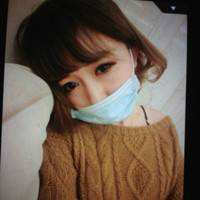face_mask: (60, 27, 137, 125)
